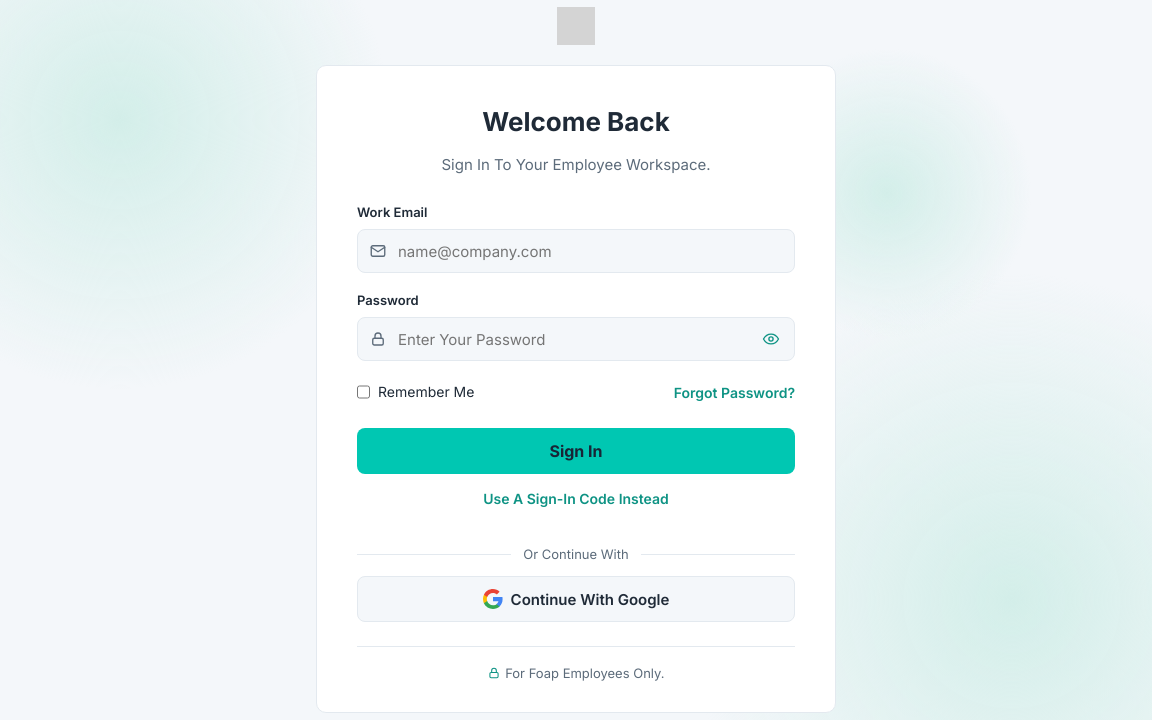
Test: login loading states › shows Sending… only on the forgot-password button
Expected: the field labelled "Work Email" is shown, top-left (357, 229), bottom-right (795, 273)
What coordinates should you click on to do the following:
click the button "Forgot Password?"
I would click on:
 (734, 392)
Its box is top-left (674, 382), bottom-right (795, 403).
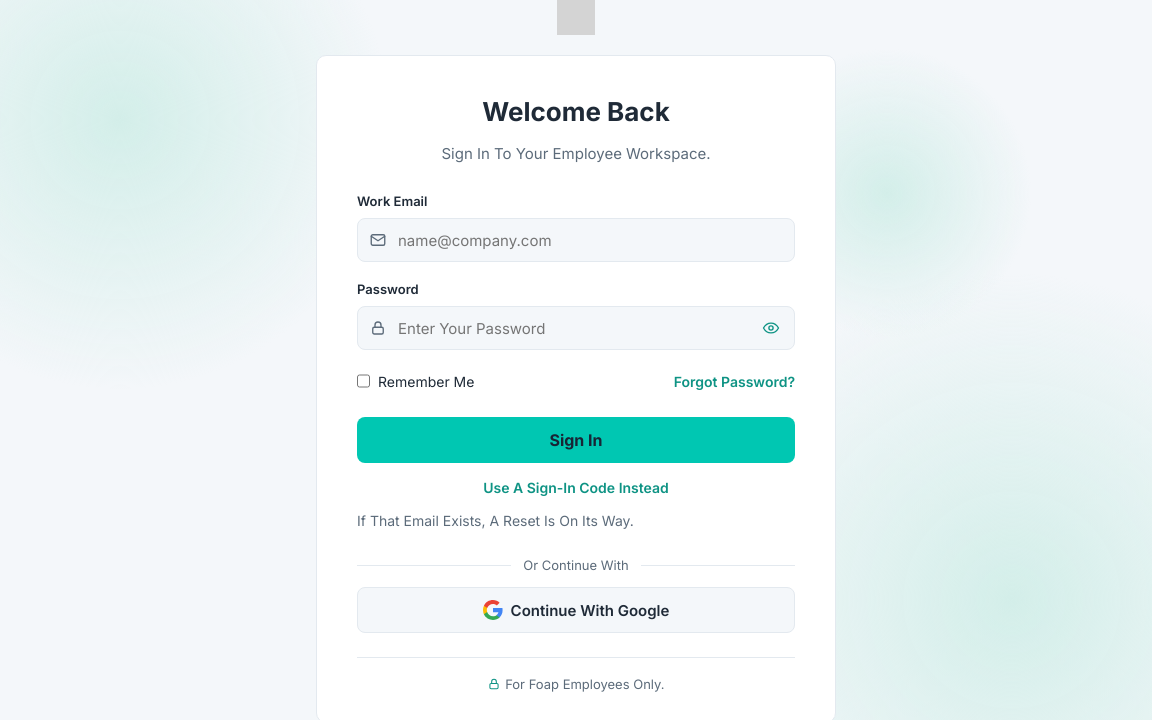
Expected: the button "Sign In" is shown, top-left (357, 417), bottom-right (795, 463)
Expected: the text "If That Email Exists, A Reset Is On Its Way." is shown, top-left (357, 512), bottom-right (634, 529)
